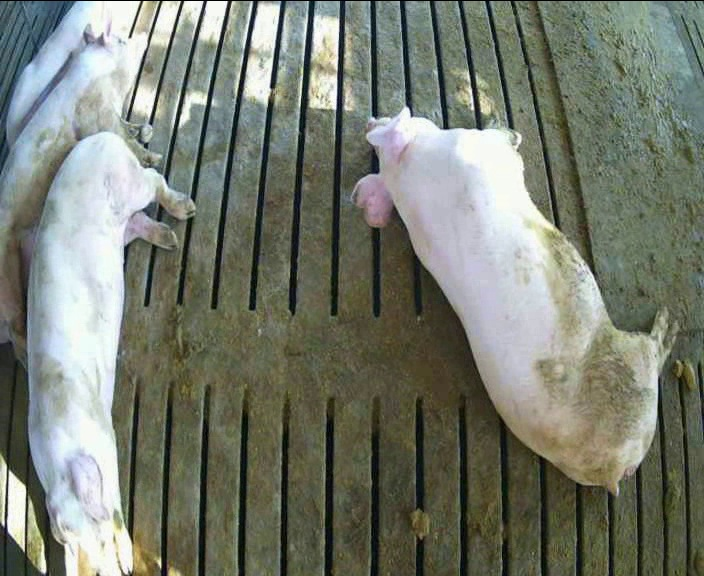pig: (352, 107, 678, 493), (27, 132, 193, 573)
